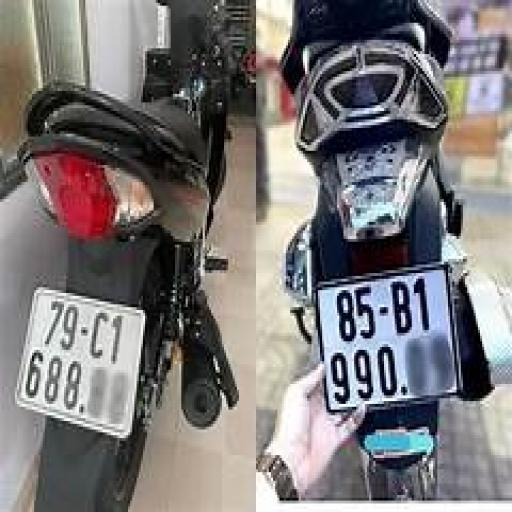place: (32, 290, 139, 431), (321, 292, 454, 397)
